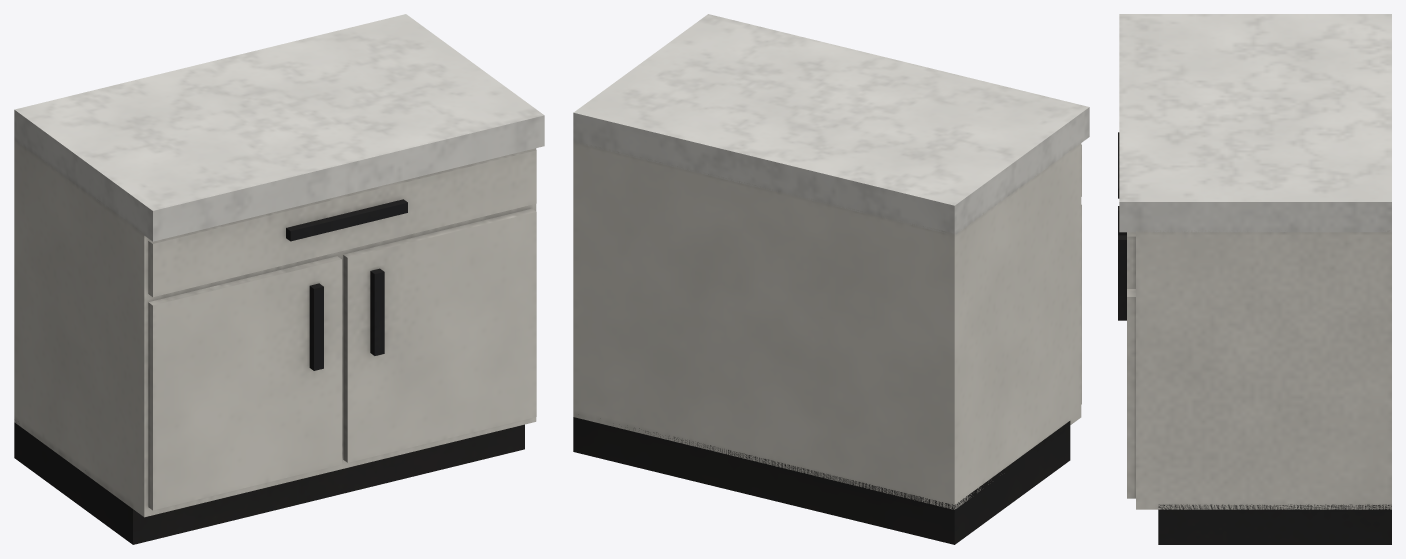
Rendered from H_KitchenBase.fbx.
3 renders of one model, left to right at view 1: azimuth 30°, elevation 25°; view 2: azimuth 150°, elevation 25°; view 3: azimuth 270°, elevation 25°, orthographic. The views are drawn at different scales.
Parts seen in each view (by area): view 1: H_KitchenBase; view 2: H_KitchenBase; view 3: H_KitchenBase.
Part boxes in pixels (left/top/right/bottom): H_KitchenBase: left=14, top=14, right=544, bottom=544; H_KitchenBase: left=573, top=14, right=1089, bottom=544; H_KitchenBase: left=1118, top=14, right=1391, bottom=544.
Bounding box in the file's own units: 400 × 340 × 246.
1 material, 1 textured.
